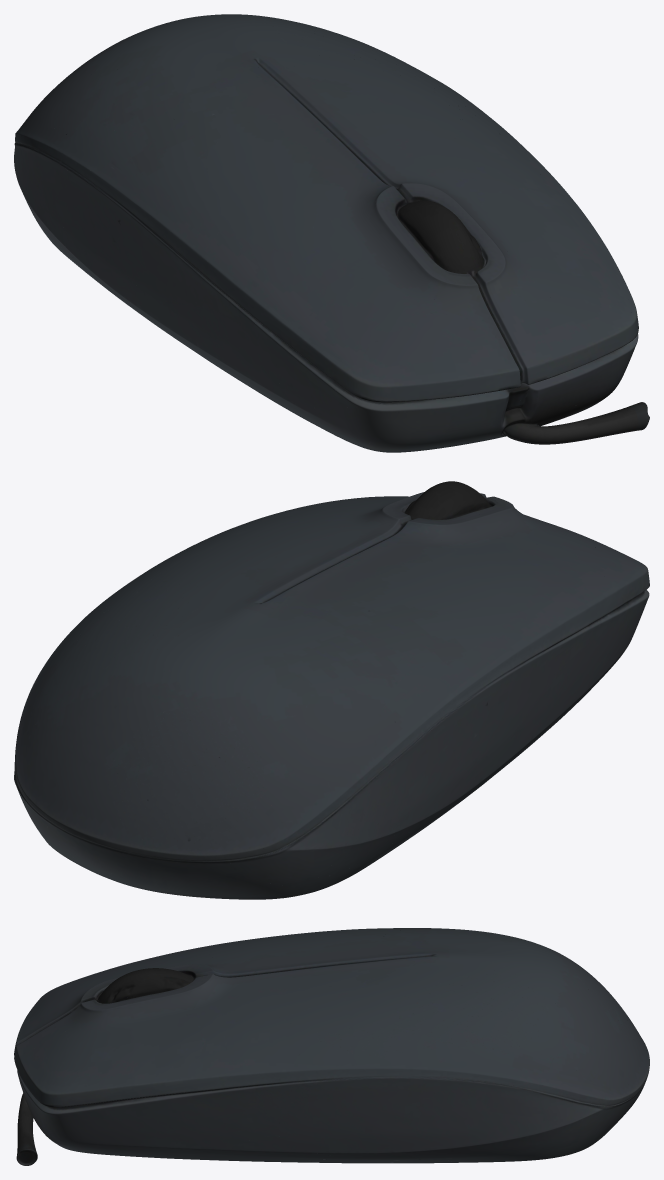
The model's file is mouse-otimizado.glb.
3 views of the same model, one above another, from view 1: azimuth 30°, elevation 25°; view 2: azimuth 150°, elevation 25°; view 3: azimuth 270°, elevation 25° (orthographic). The views are drawn at different scales.
Parts seen in each view (by area): view 1: node_0; view 2: node_0; view 3: node_0.
Boxes of the visible parts, bbox=[...] form: node_0: bbox=[14, 14, 649, 452]; node_0: bbox=[14, 481, 649, 899]; node_0: bbox=[14, 928, 649, 1165].
Size of the model in its own units: 0.0912 by 0.0503 by 0.1764.
Materials: 1 (1 with a texture image).
